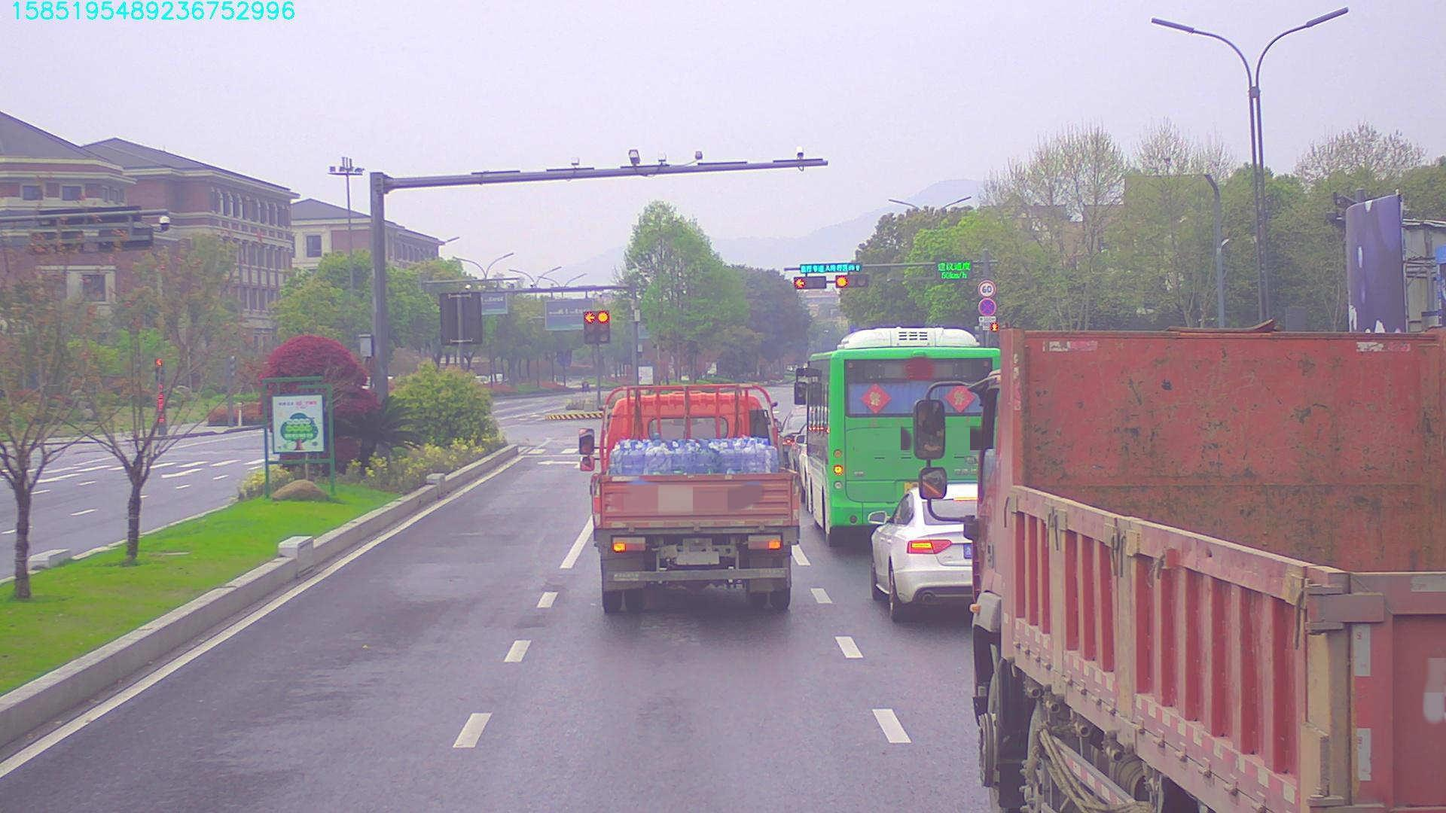red: (789, 275, 825, 288), (832, 273, 866, 285)
wait_on: (797, 260, 862, 273)
